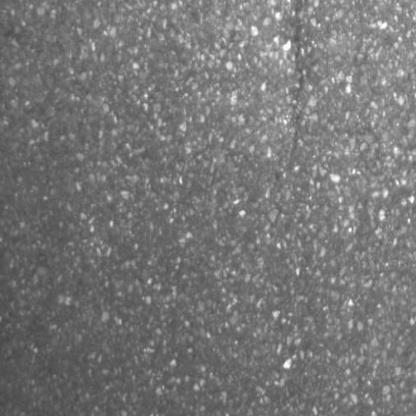Cracks: (285, 0, 313, 173)
